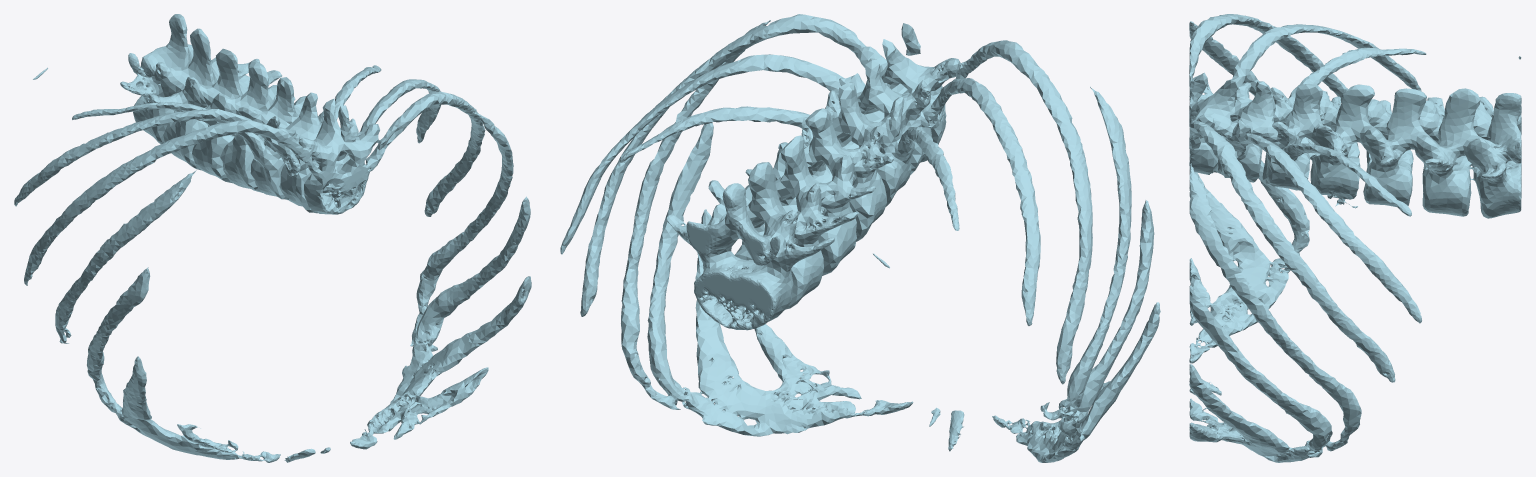
Rendered from bone.obj.
The picture shows the model from 3 angles, left to right: view 1: azimuth 30°, elevation 25°; view 2: azimuth 150°, elevation 25°; view 3: azimuth 270°, elevation 25°; orthographic projection. The views are drawn at different scales.
Parts seen in each view (by area): view 1: grp1; view 2: grp1; view 3: grp1.
Part boxes in pixels (x1,y1,x2,y2): grp1: (14, 14, 531, 462); grp1: (560, 14, 1160, 462); grp1: (1189, 14, 1521, 462).
Size of the model in its own units: 321 by 260 by 222.
